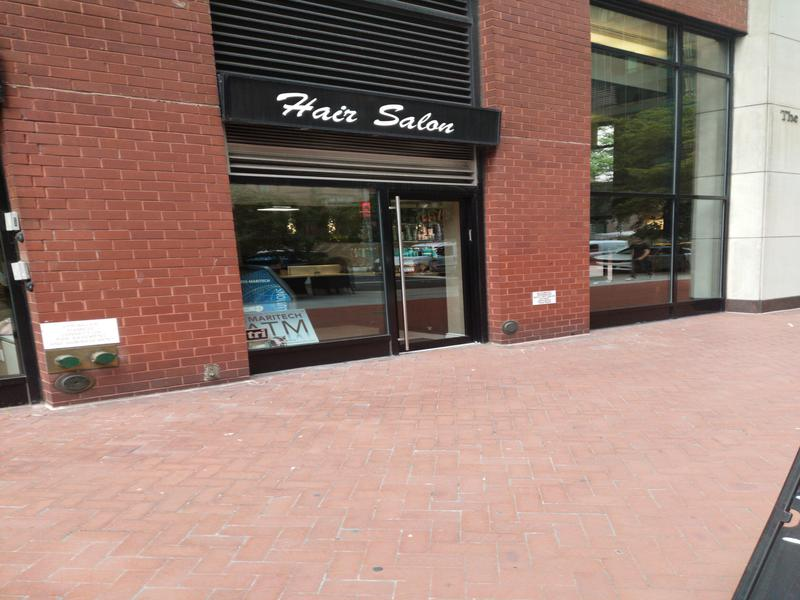door: (386, 184, 505, 362)
